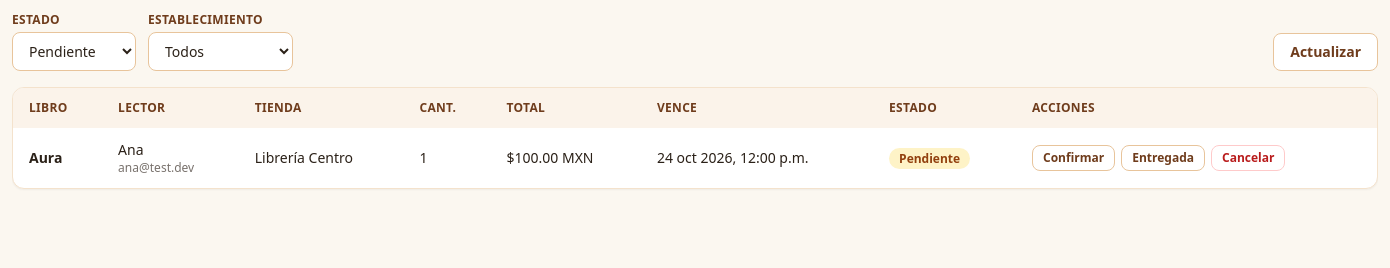
Scenario: ReservationsManager › lists pending reservations and confirms one
The width and height of the screenshot is (1390, 268).
Expected: the text "ana@test.dev" is shown, [118, 159, 194, 176]
Click the button "Confirmar". click: (1074, 158)
box: [1032, 145, 1115, 171]
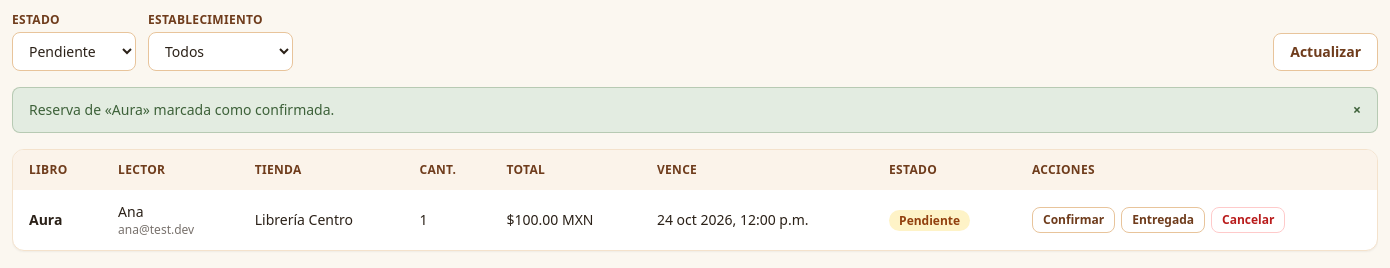
Expected: the text "Reserva de «Aura» marcada como confirmada." is shown, [29, 100, 334, 120]
